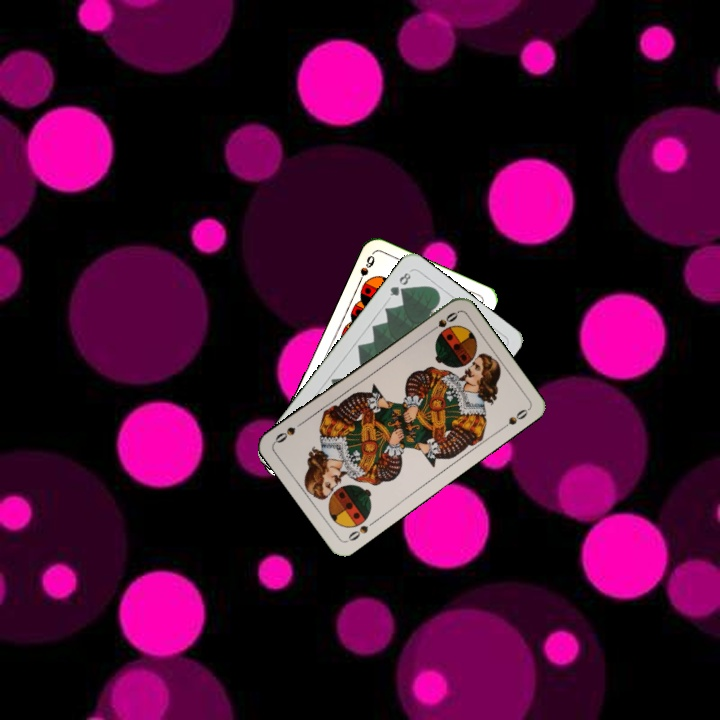G8: (386, 268, 414, 299)
S9: (353, 251, 377, 289)
SO: (343, 516, 378, 545), (424, 308, 460, 336)
